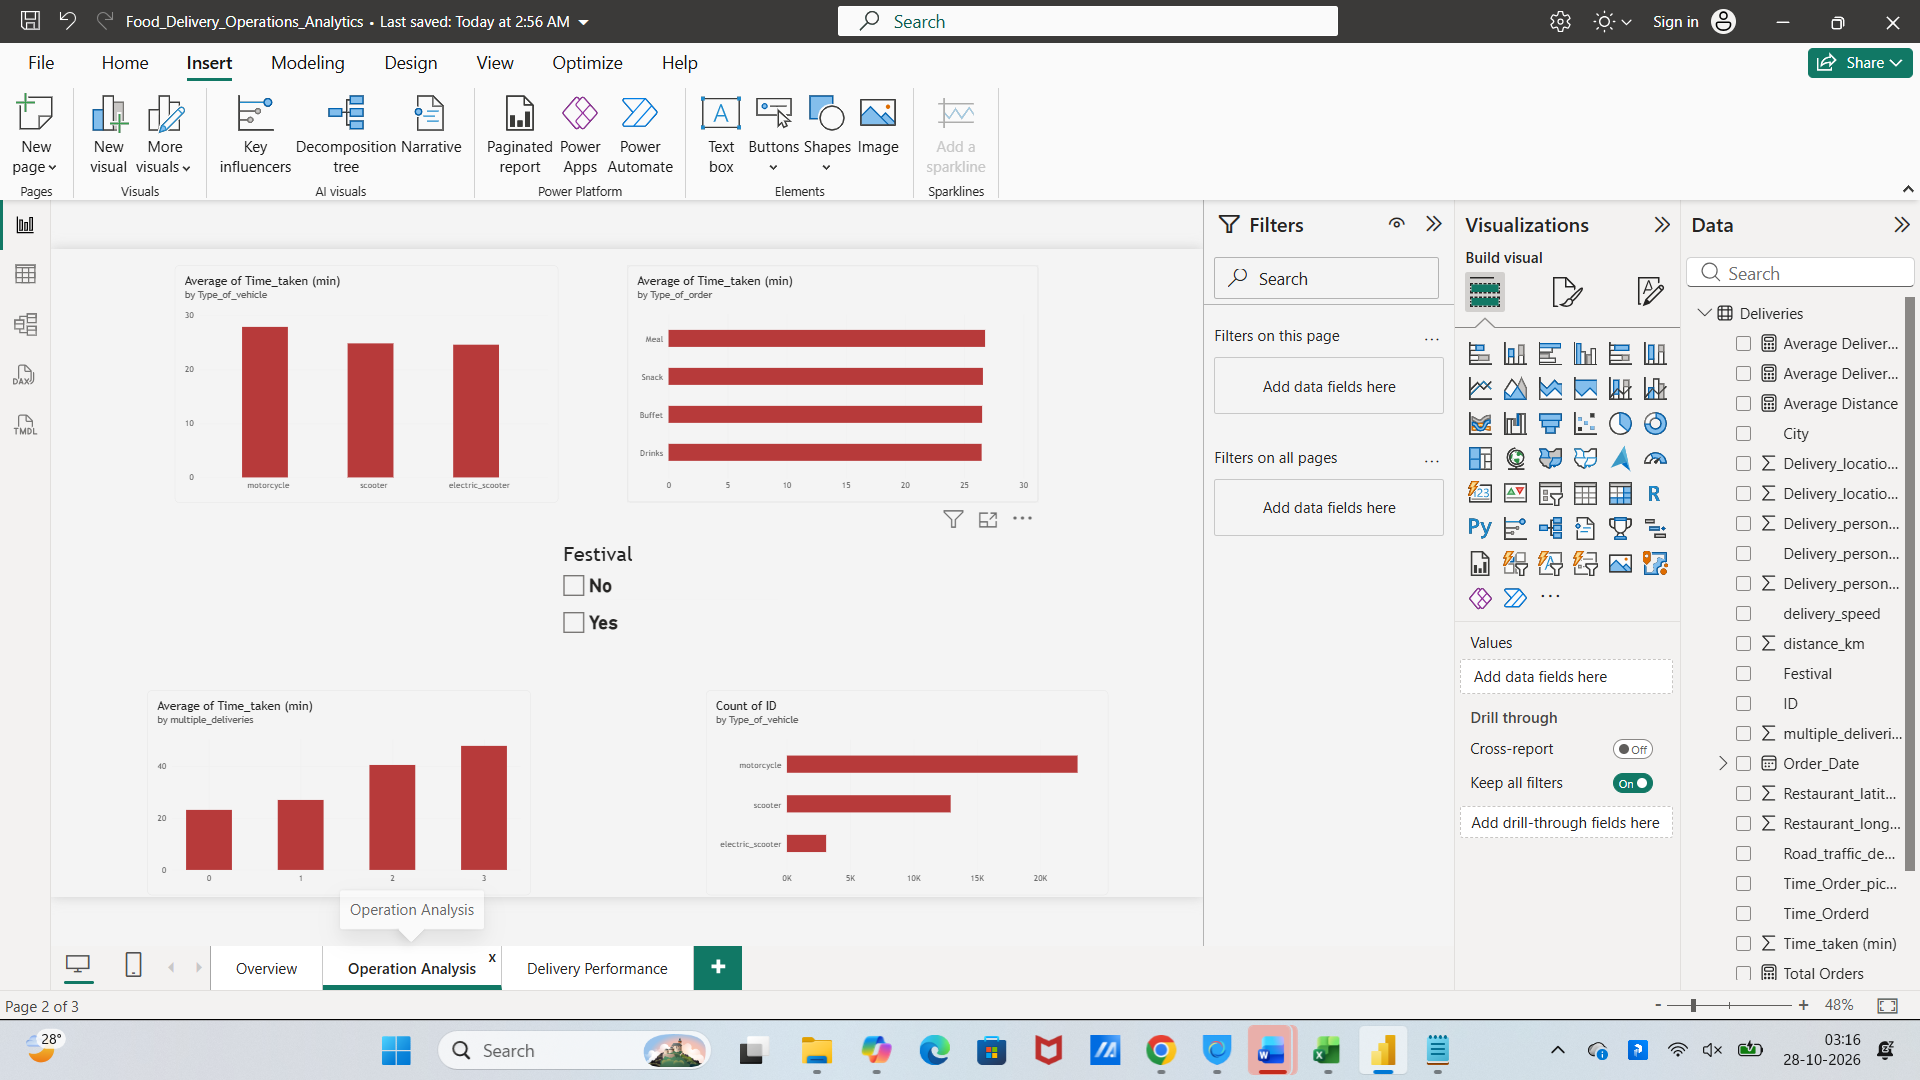

This screenshot's page, from the dashboard's own definition file:
{"tool":"powerbi","page":{"name":"Operation Analysis","canvas":[1920,1080],"ordinal":1},"visuals":[{"type":"clusteredColumnChart","fields":{"Category":["Deliveries.Type_of_vehicle"],"Y":["Avg(Deliveries.Time_taken (min))"]},"box":[206.2,27.1,639.4,395.7],"z":0},{"type":"clusteredBarChart","fields":{"Category":["Deliveries.Type_of_order"],"Y":["Avg(Deliveries.Time_taken (min))"]},"box":[960.2,27.1,685.3,395.7],"z":1000},{"type":"clusteredColumnChart","fields":{"Category":["Deliveries.multiple_deliveries"],"Y":["Avg(Deliveries.Time_taken (min))"]},"box":[160.4,735.3,639.4,341.6],"z":2000},{"type":"clusteredBarChart","fields":{"Category":["Deliveries.Type_of_vehicle"],"Y":["Count(Deliveries.ID)"]},"box":[1091.4,735.3,670.7,341.6],"z":3000},{"type":"slicer","fields":{"Values":["Deliveries.Festival"]},"box":[845.7,489.5,364.5,264.5],"z":4000}]}

Visuals, with their boxes on the page's 1920x1080 design canvas (x1, y1, x2, y2). These are canvas units, not pixel positions in the 1920x1080 screenshot, which may show the page scaled, cropped or inside an application window:
clusteredColumnChart - Deliveries.Type_of_vehicle x Avg(Deliveries.Time_taken (min)): <bbox>206, 27, 846, 423</bbox>
clusteredBarChart - Deliveries.Type_of_order x Avg(Deliveries.Time_taken (min)): <bbox>960, 27, 1646, 423</bbox>
clusteredColumnChart - Deliveries.multiple_deliveries x Avg(Deliveries.Time_taken (min)): <bbox>160, 735, 800, 1077</bbox>
clusteredBarChart - Deliveries.Type_of_vehicle x Count(Deliveries.ID): <bbox>1091, 735, 1762, 1077</bbox>
slicer - Deliveries.Festival: <bbox>846, 490, 1210, 754</bbox>
